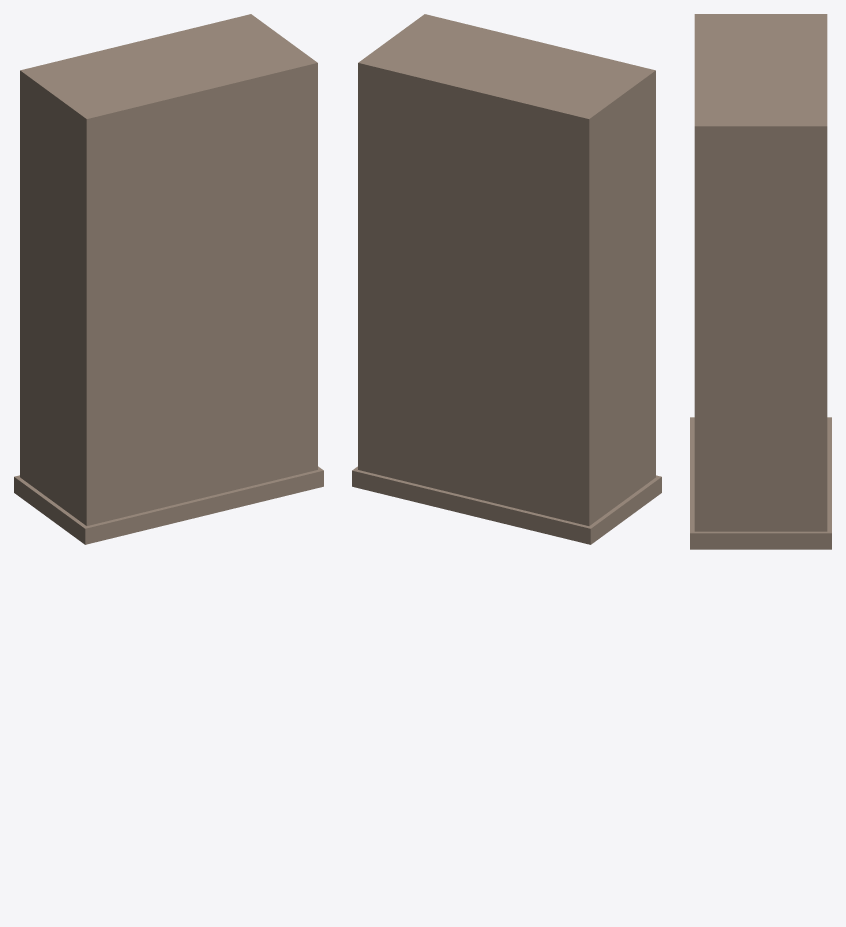
File: wardrobe.glb
The picture shows the model from 3 angles, left to right: view 1: azimuth 30°, elevation 25°; view 2: azimuth 150°, elevation 25°; view 3: azimuth 270°, elevation 25°; orthographic projection.
Size of the model in its own units: 1.24 by 4.2 by 0.64.
